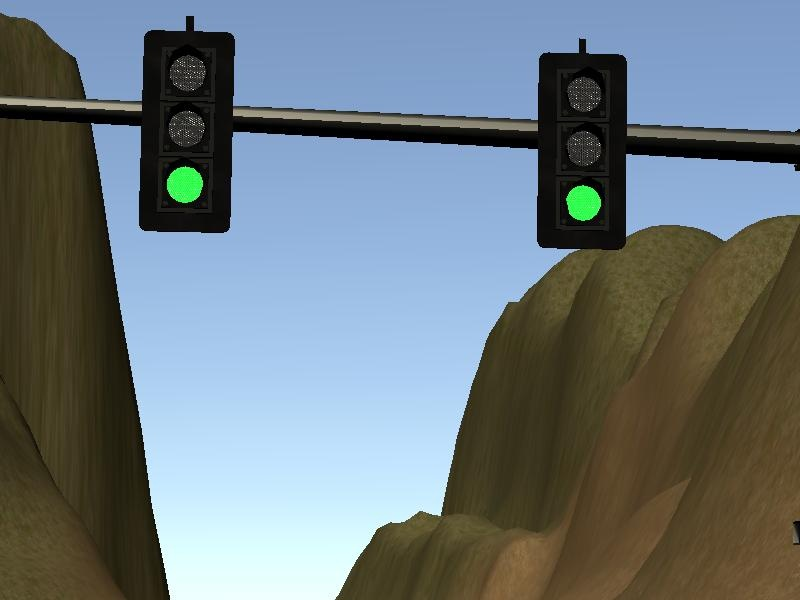green: (141, 31, 232, 233), (537, 53, 625, 249)
